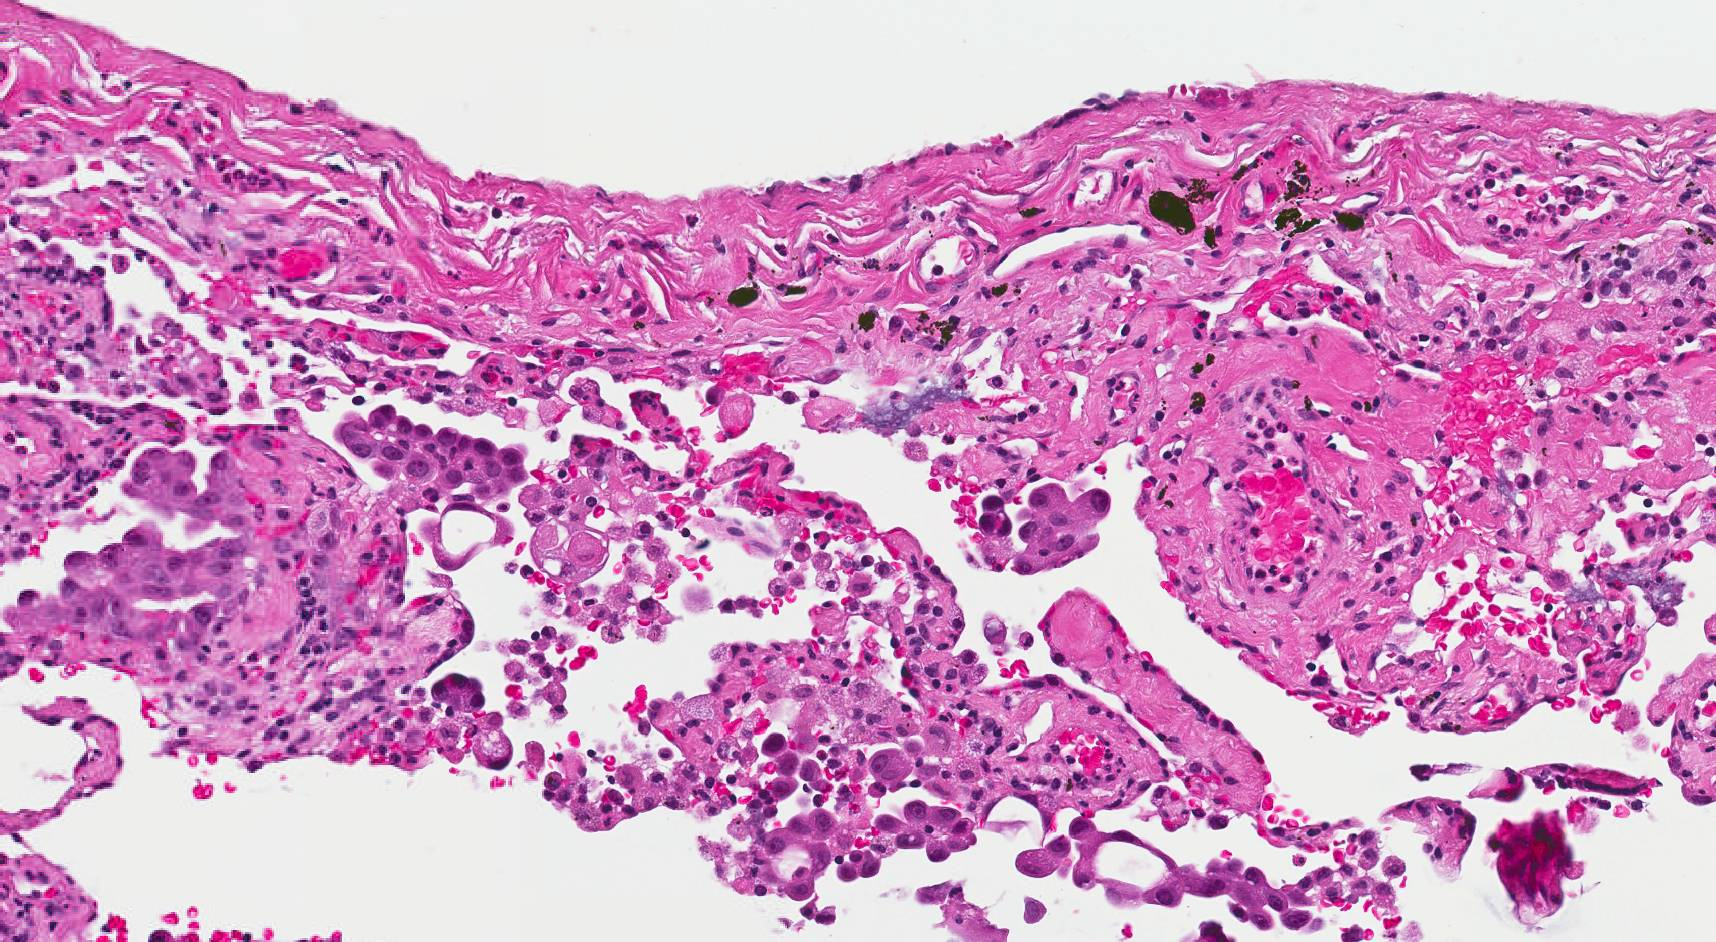stas: (1016, 814, 1339, 934), (334, 406, 528, 500), (973, 482, 1112, 576), (747, 811, 840, 902), (425, 494, 514, 573), (874, 799, 980, 862), (431, 671, 488, 713), (836, 847, 884, 881)
